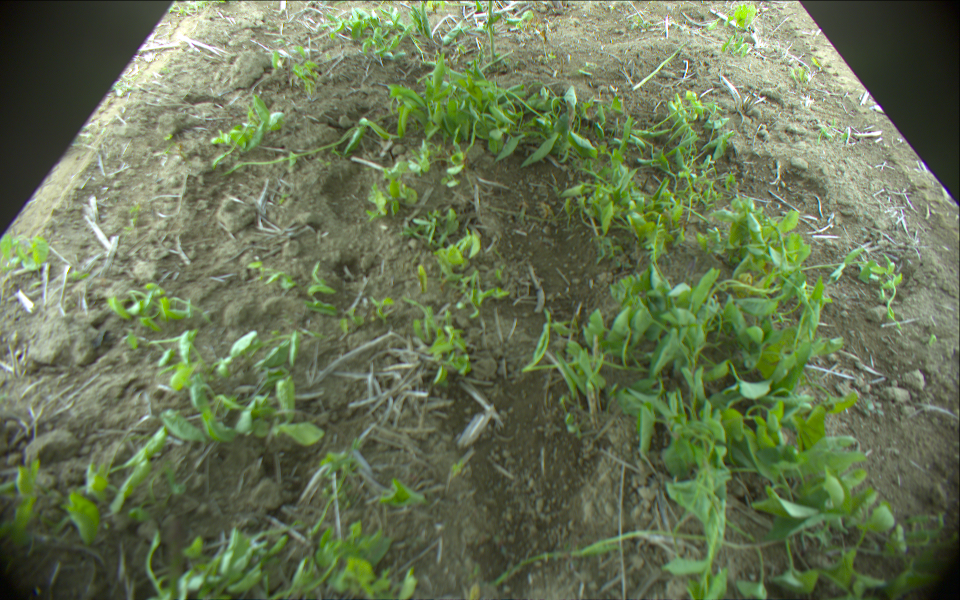aspa: (487, 1, 501, 63)
